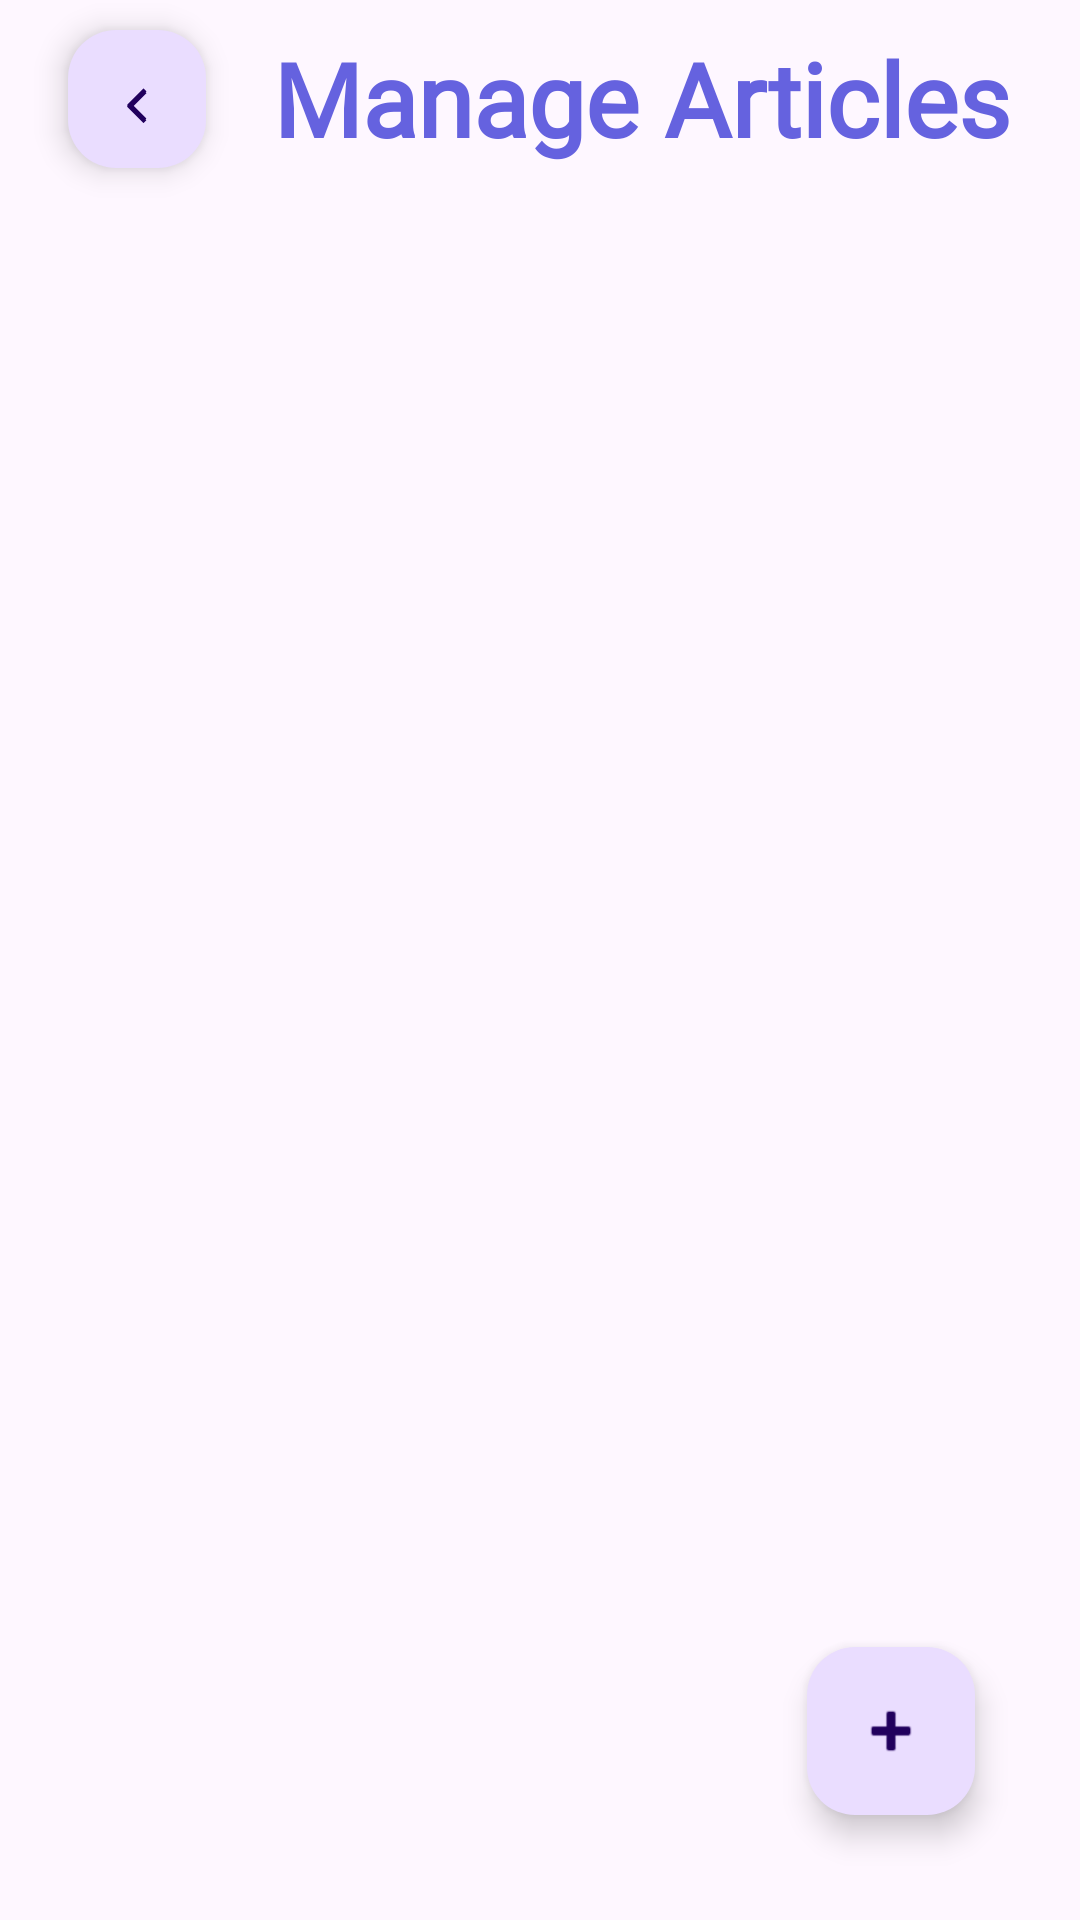

Point at icon controls on the screen. Image size 1080 × 1920, points as (x=x, y=y).
add: (x=891, y=1731)
arrow back: (x=137, y=99)
